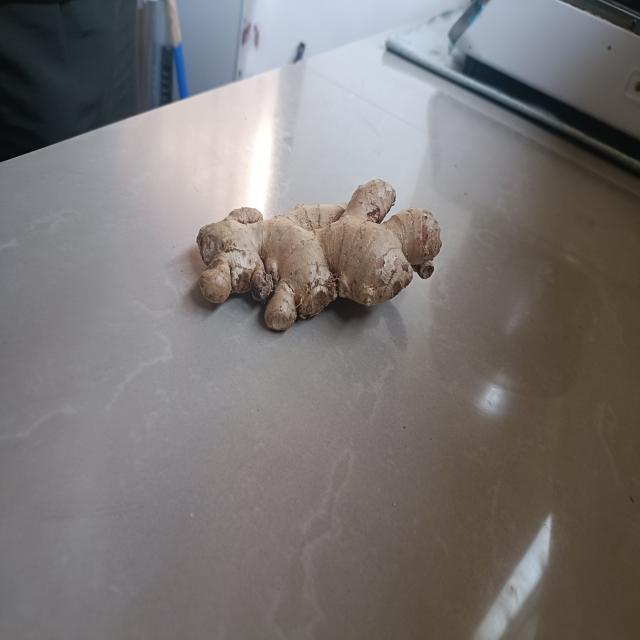ginger: (193, 172, 445, 336)
